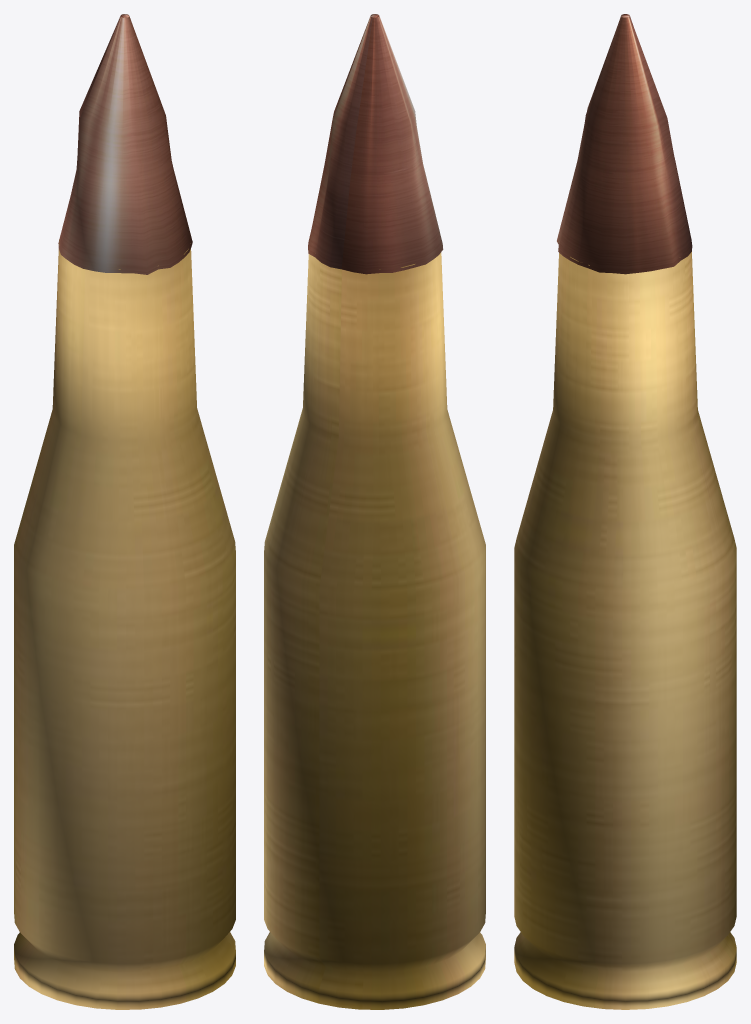
File: Bullet.fbx
3 views of the same model, side by side, from view 1: azimuth 30°, elevation 25°; view 2: azimuth 150°, elevation 25°; view 3: azimuth 270°, elevation 25° (orthographic).
Visible parts, largest first — view 1: Cylinder.002, Cylinder; view 2: Cylinder.002, Cylinder; view 3: Cylinder.002, Cylinder.
Part boxes in pixels (left/top/right/bottom): Cylinder.002: left=14, top=240, right=235, bottom=1009; Cylinder: left=58, top=14, right=192, bottom=274; Cylinder.002: left=264, top=252, right=485, bottom=1009; Cylinder: left=308, top=14, right=443, bottom=274; Cylinder.002: left=514, top=252, right=736, bottom=1009; Cylinder: left=557, top=14, right=692, bottom=274.
Size of the model in its own units: 243 by 1144 by 243.
